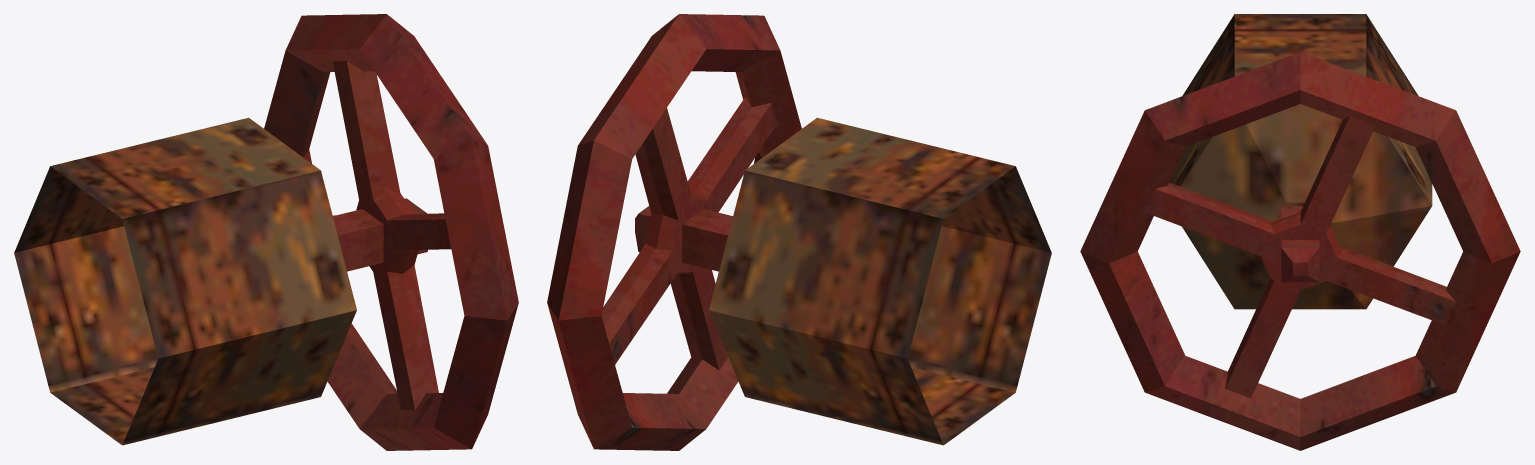
File: valve_red_end_piece_rusted.fbx
3 views of the same model, side by side, from view 1: azimuth 30°, elevation 25°; view 2: azimuth 150°, elevation 25°; view 3: azimuth 270°, elevation 25° (orthographic). The views are drawn at different scales.
Parts seen in each view (by area): view 1: valve_red_end_piece_rusted; view 2: valve_red_end_piece_rusted; view 3: valve_red_end_piece_rusted.
Boxes of the visible parts, box(x1,y1,x2,y2) form: valve_red_end_piece_rusted: box(14, 14, 518, 450); valve_red_end_piece_rusted: box(547, 14, 1051, 450); valve_red_end_piece_rusted: box(1080, 14, 1520, 450).
Bounding box in the file's own units: 33.99 × 41.67 × 41.67.
2 materials, 2 textured.
